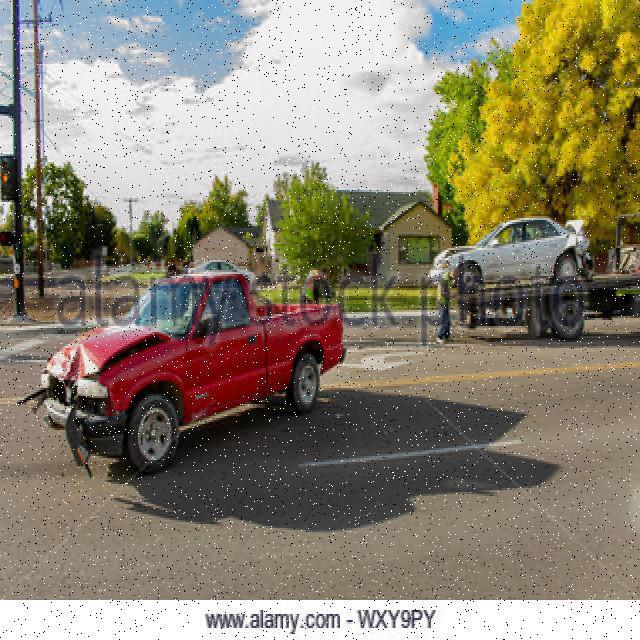bonnet-dent: (51, 330, 168, 370)
front-bumper-dent: (32, 374, 110, 428)
